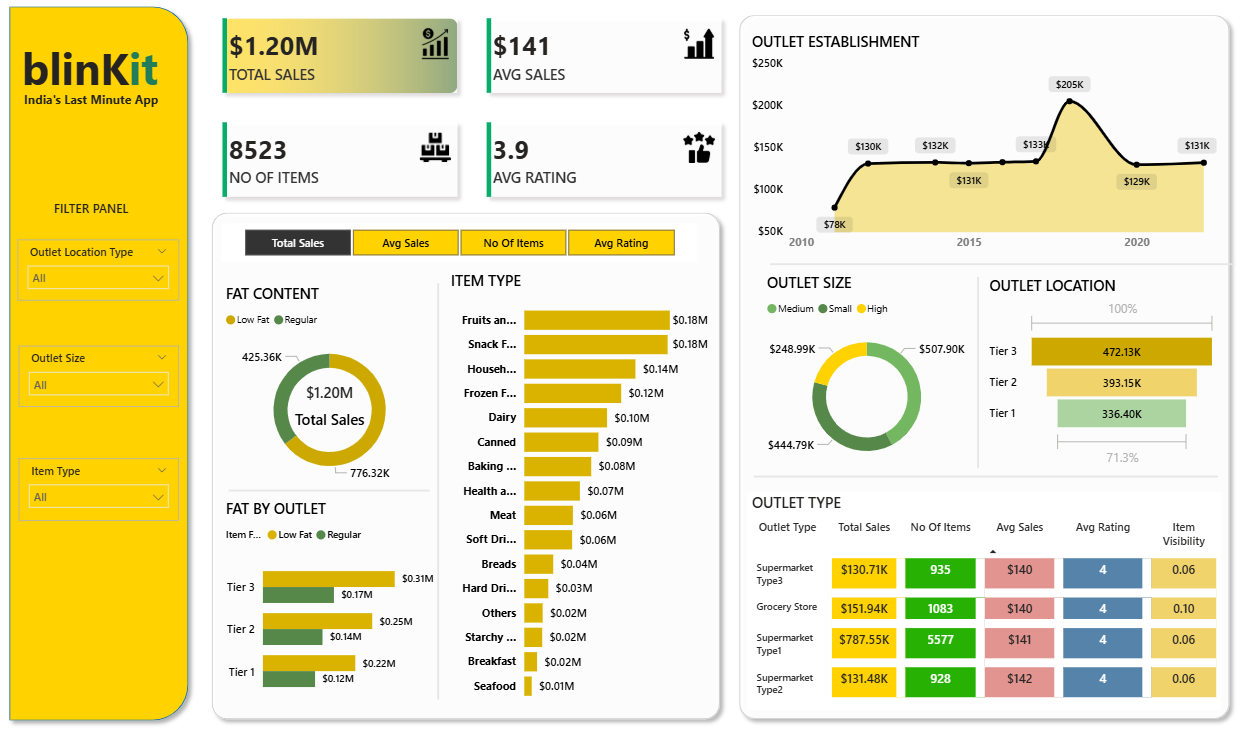

This screenshot's page, from the dashboard's own definition file:
{"tool":"powerbi","page":{"name":"Page 1","canvas":[1400,820],"ordinal":0},"visuals":[{"type":"shape","box":[12,7.5,214.6,803],"z":0},{"type":"textbox","box":[30,45,174.1,82.5],"z":1000},{"type":"textbox","box":[31.5,105.1,159.1,40.5],"z":2000},{"type":"cardVisual","fields":{"Data":["BlinkIT Grocery Data.Total sales","BlinkIT Grocery Data.avg sales","BlinkIT Grocery Data.No of items","BlinkIT Grocery Data.avg rating"]},"box":[226.6,0,606.3,255.1],"z":3000},{"type":"shape","box":[235.6,234.1,576.3,574.8],"z":4000},{"type":"donutChart","title":"FAT CONTENT","fields":{"Y":["Sum(BlinkIT Grocery Data.Sales)"],"Category":["BlinkIT Grocery Data.Item Fat Content"]},"box":[253.6,319.7,238.6,229.6],"z":5000},{"type":"slicer","fields":{"Values":["Metrices.Metrices"]},"box":[254.2,254.2,522.1,42.6],"z":6000},{"type":"card","fields":{"Values":["BlinkIT Grocery Data.Total Sales"]},"box":[328.7,423.2,90.1,60],"z":7000},{"type":"clusteredBarChart","title":"FAT BY OUTLET","fields":{"Y":["BlinkIT Grocery Data.Total Sales"],"Category":["BlinkIT Grocery Data.Outlet Location Type"],"Series":["BlinkIT Grocery Data.Item Fat Content"]},"box":[253.6,556.8,238.6,232.6],"z":8000},{"type":"shape","box":[262.7,526.8,220.6,43.5],"z":9000},{"type":"shape","box":[483.3,319.7,18,457.8],"z":10000},{"type":"barChart","title":"ITEM TYPE","fields":{"Y":["BlinkIT Grocery Data.Total Sales"],"Category":["BlinkIT Grocery Data.Item Type"]},"box":[501.3,304.7,292.7,484.8],"z":11000},{"type":"shape","box":[814.8,16.5,556.5,791.4],"z":12000},{"type":"lineChart","title":"OUTLET ESTABLISHMENT","fields":{"Category":["BlinkIT Grocery Data.Outlet Establishment Year"],"Y":["BlinkIT Grocery Data.Total Sales"]},"box":[833,42,520.8,250.6],"z":13000},{"type":"shape","box":[857,286.7,510.3,24],"z":14000},{"type":"donutChart","title":"OUTLET SIZE","fields":{"Y":["BlinkIT Grocery Data.Total Sales"],"Category":["BlinkIT Grocery Data.Outlet Size"]},"box":[849.5,307.7,229.6,225.1],"z":15000},{"type":"shape","box":[1079.1,313.7,15,210.1],"z":16000},{"type":"funnel","title":"OUTLET LOCATION","fields":{"Y":["Sum(BlinkIT Grocery Data.Sales)"],"Category":["BlinkIT Grocery Data.Outlet Location Type"]},"box":[1094.1,310.7,259.6,216.1],"z":17000},{"type":"shape","box":[839,522.3,510.3,21],"z":18000},{"type":"pivotTable","title":"OUTLET TYPE","fields":{"Rows":["BlinkIT Grocery Data.Outlet Type"],"Values":["BlinkIT Grocery Data.Total Sales","BlinkIT Grocery Data.No Of Items","BlinkIT Grocery Data.Avg Sales","BlinkIT Grocery Data.Avg Rating","Avg(BlinkIT Grocery Data.Item Visibility)"]},"box":[833,549.3,520.8,240.1],"z":19000},{"type":"slicer","fields":{"Values":["BlinkIT Grocery Data.Outlet Location Type"]},"box":[30.2,272.1,177.2,67.3],"z":20000},{"type":"slicer","fields":{"Values":["BlinkIT Grocery Data.Outlet Size"]},"box":[31.6,388.8,175.9,67.3],"z":21000},{"type":"slicer","fields":{"Values":["BlinkIT Grocery Data.Item Type"]},"box":[31.6,512.5,175.9,68.7],"z":22000},{"type":"textbox","box":[31.6,224,159.4,31.6],"z":23000}]}

Visuals, with their boxes in screenshot pixels (x1, y1, x2, y2), scaled from the page's 1400x820 canvas onto the 1241x731 screenshot:
shape: region(11, 7, 201, 723)
textbox: region(27, 40, 181, 114)
textbox: region(28, 94, 169, 130)
cardVisual - BlinkIT Grocery Data.Total sales x BlinkIT Grocery Data.avg sales: region(201, 0, 738, 227)
shape: region(209, 209, 720, 721)
"FAT CONTENT" donutChart: region(225, 285, 436, 490)
slicer - Metrices.Metrices: region(225, 227, 688, 265)
card - BlinkIT Grocery Data.Total Sales: region(291, 377, 371, 431)
"FAT BY OUTLET" clusteredBarChart: region(225, 496, 436, 704)
shape: region(233, 470, 428, 508)
shape: region(428, 285, 444, 693)
"ITEM TYPE" barChart: region(444, 272, 704, 704)
shape: region(722, 15, 1216, 720)
"OUTLET ESTABLISHMENT" lineChart: region(738, 37, 1200, 261)
shape: region(760, 256, 1212, 277)
"OUTLET SIZE" donutChart: region(753, 274, 957, 475)
shape: region(957, 280, 970, 467)
"OUTLET LOCATION" funnel: region(970, 277, 1200, 470)
shape: region(744, 466, 1196, 484)
"OUTLET TYPE" pivotTable: region(738, 490, 1200, 704)
slicer - BlinkIT Grocery Data.Outlet Location Type: region(27, 243, 184, 303)
slicer - BlinkIT Grocery Data.Outlet Size: region(28, 347, 184, 407)
slicer - BlinkIT Grocery Data.Item Type: region(28, 457, 184, 518)
textbox: region(28, 200, 169, 228)
